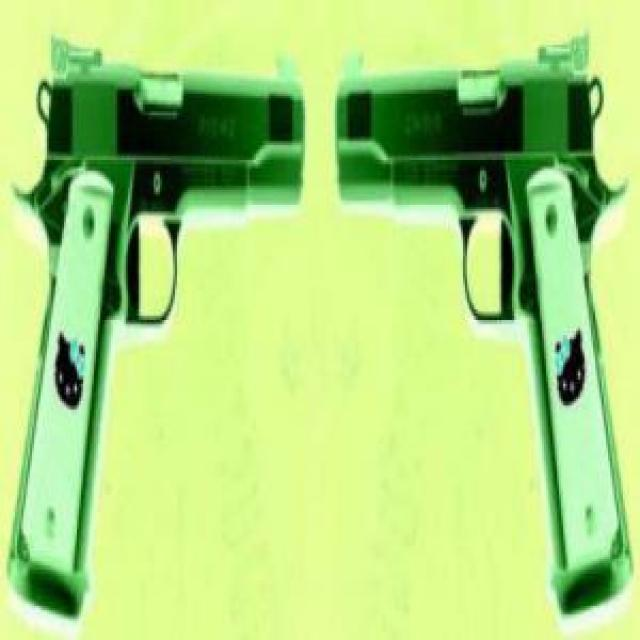pistol: (7, 21, 306, 620), (335, 28, 630, 612)
